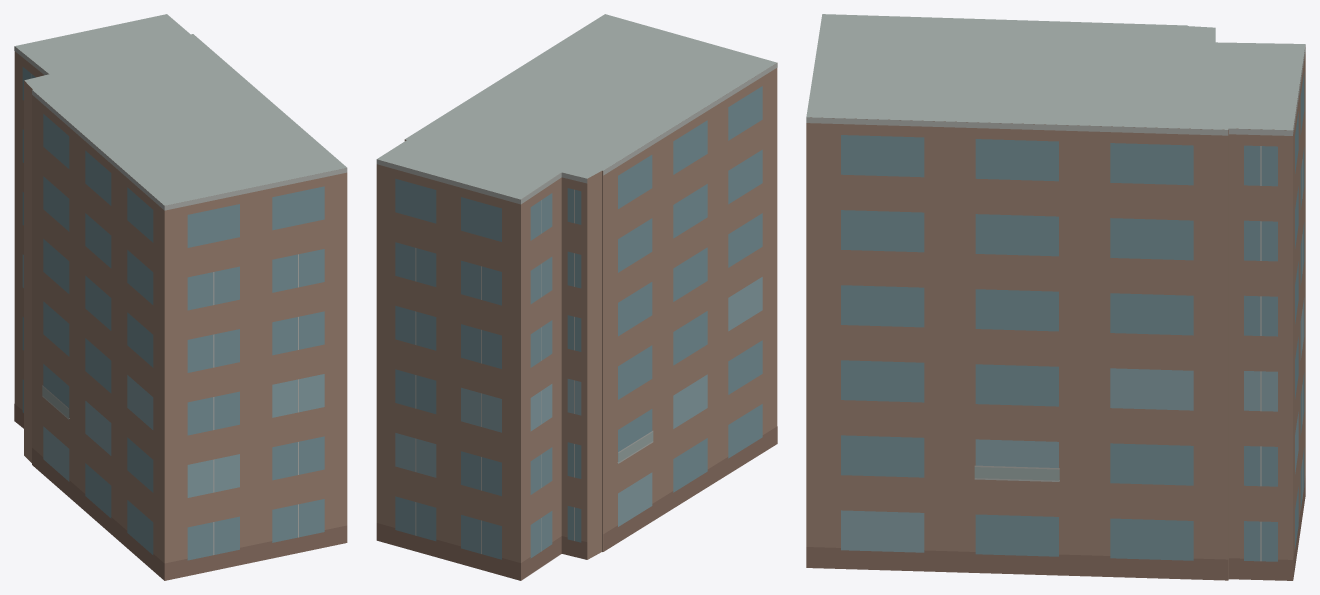
Rendered from survey-upis-33008473.glb.
The picture shows the model from 3 angles, left to right: view 1: azimuth 30°, elevation 25°; view 2: azimuth 150°, elevation 25°; view 3: azimuth 270°, elevation 25°; orthographic projection. The views are drawn at different scales.
Parts seen in each view (by area): view 1: survey-upis-33008473.tmp; view 2: survey-upis-33008473.tmp; view 3: survey-upis-33008473.tmp.
Part boxes in pixels (left/top/right/bottom): survey-upis-33008473.tmp: left=14, top=14, right=347, bottom=580; survey-upis-33008473.tmp: left=376, top=14, right=777, bottom=580; survey-upis-33008473.tmp: left=806, top=14, right=1305, bottom=580.
Bounding box in the file's own units: 10.58 × 19.1 × 19.19.
